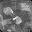people: (0, 15, 12, 29), (3, 7, 15, 16), (13, 16, 22, 25)
